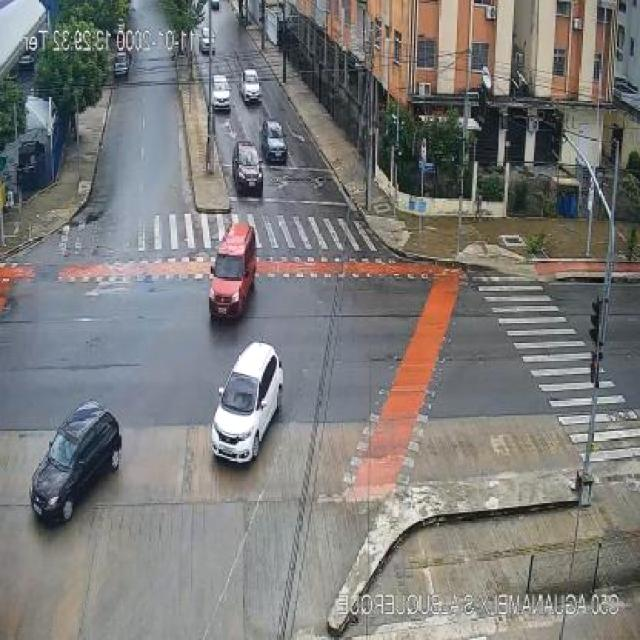Car: (30, 399, 121, 526), (210, 342, 286, 467), (230, 140, 264, 198), (15, 140, 46, 183), (259, 120, 288, 162), (211, 76, 233, 112), (240, 69, 262, 104), (113, 51, 132, 77), (199, 27, 215, 54)
Van: (207, 220, 258, 323)
